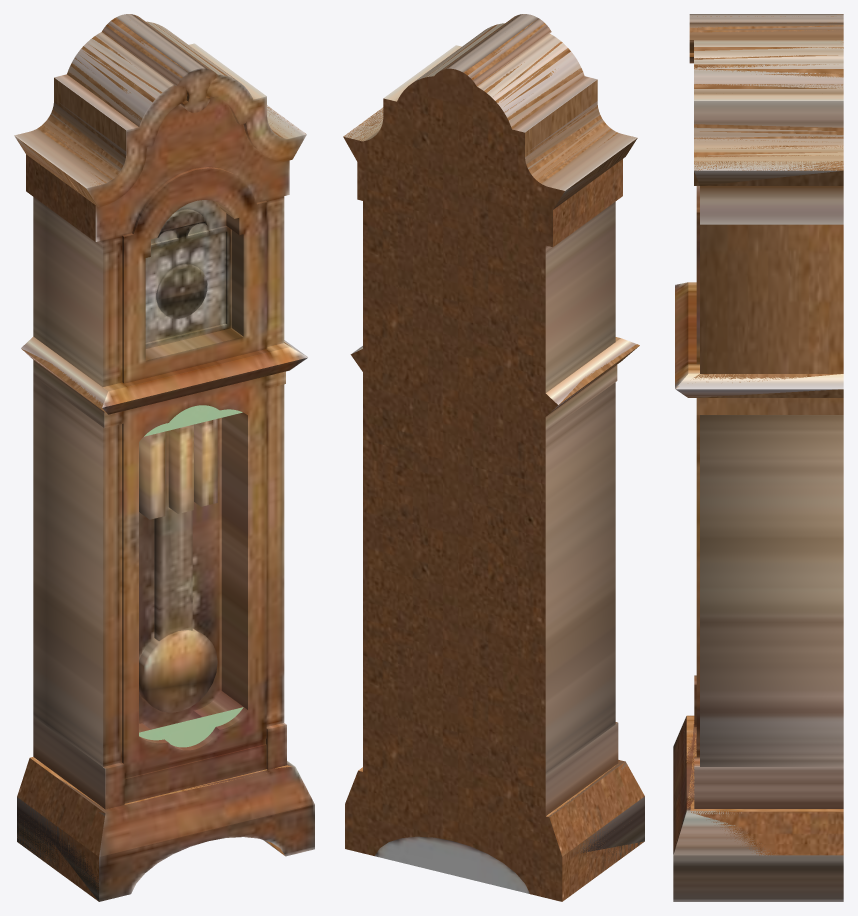
The model's file is clock1.FBX.
3 views of the same model, side by side, from view 1: azimuth 30°, elevation 25°; view 2: azimuth 150°, elevation 25°; view 3: azimuth 270°, elevation 25° (orthographic). The views are drawn at different scales.
Parts seen in each view (by area): view 1: Model; view 2: Model; view 3: Model.
Part boxes in pixels (x1=…): Model: x1=14, y1=14, x2=314, y2=901; Model: x1=343, y1=14, x2=644, y2=901; Model: x1=673, y1=14, x2=843, y2=901.
Size of the model in its own units: 24.28 by 84.25 by 15.66.
8 materials, 8 textured.
